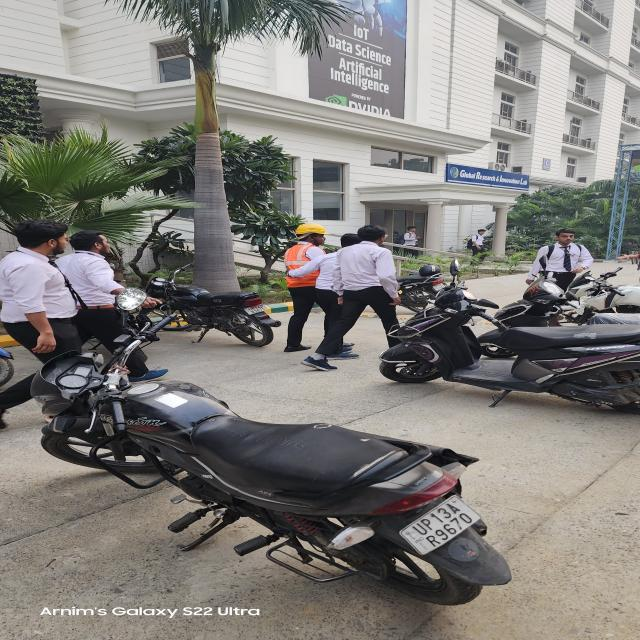safe: (285, 223, 331, 352)
unsafe: (2, 221, 86, 430), (57, 232, 165, 384), (306, 224, 409, 373), (532, 228, 594, 301), (397, 226, 419, 260), (468, 230, 487, 266)
